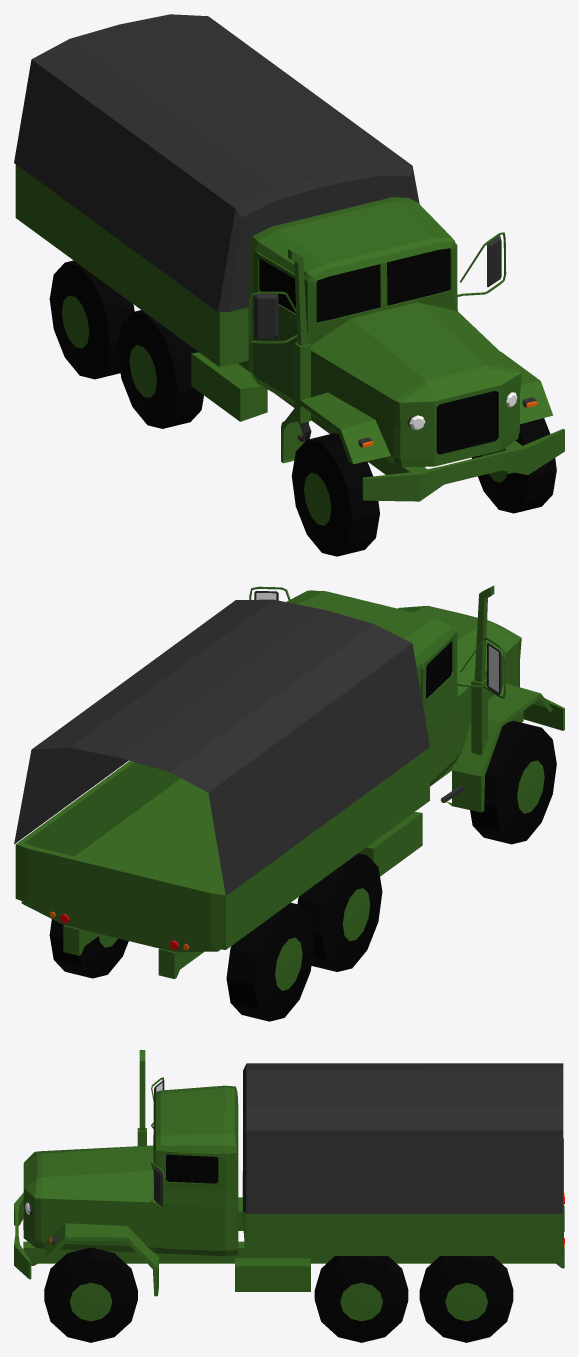
3 renders of one model, top to bottom at view 1: azimuth 30°, elevation 25°; view 2: azimuth 150°, elevation 25°; view 3: azimuth 270°, elevation 25°, orthographic. The views are drawn at different scales.
Parts seen in each view (by area): view 1: Plane.015, Cylinder.031, Cylinder.029, Cylinder.030, Plane.035, Cylinder.028, Cylinder.034; view 2: Plane.015, Plane.033, Cylinder.030, Cylinder.031, Cylinder.029, Plane.035, Cylinder.033, Cylinder.034; view 3: Plane.015, Cylinder.028, Cylinder.032, Cylinder.033, Plane.036, Cylinder.034.
Part boxes in pixels (box(x1,y1,x2,y2)): Plane.015: box(14, 14, 564, 501); Cylinder.031: box(291, 433, 379, 556); Cylinder.029: box(117, 310, 203, 428); Cylinder.030: box(49, 260, 134, 379); Plane.035: box(253, 252, 297, 399); Cylinder.028: box(472, 418, 556, 513); Cylinder.034: box(281, 249, 311, 441); Plane.015: box(14, 586, 564, 979); Plane.033: box(28, 846, 213, 947); Cylinder.030: box(226, 903, 314, 1021); Cylinder.031: box(470, 721, 556, 844); Cylinder.029: box(297, 853, 382, 971); Plane.035: box(421, 634, 456, 782); Cylinder.033: box(49, 919, 128, 978); Cylinder.034: box(441, 585, 494, 802); Plane.015: box(14, 1063, 564, 1296); Cylinder.028: box(44, 1247, 137, 1342); Cylinder.032: box(314, 1256, 408, 1342); Cylinder.033: box(419, 1256, 513, 1342); Plane.036: box(160, 1151, 224, 1250); Cylinder.034: box(137, 1050, 146, 1146).
Bounding box in the file's own units: 293 × 306 × 702.
